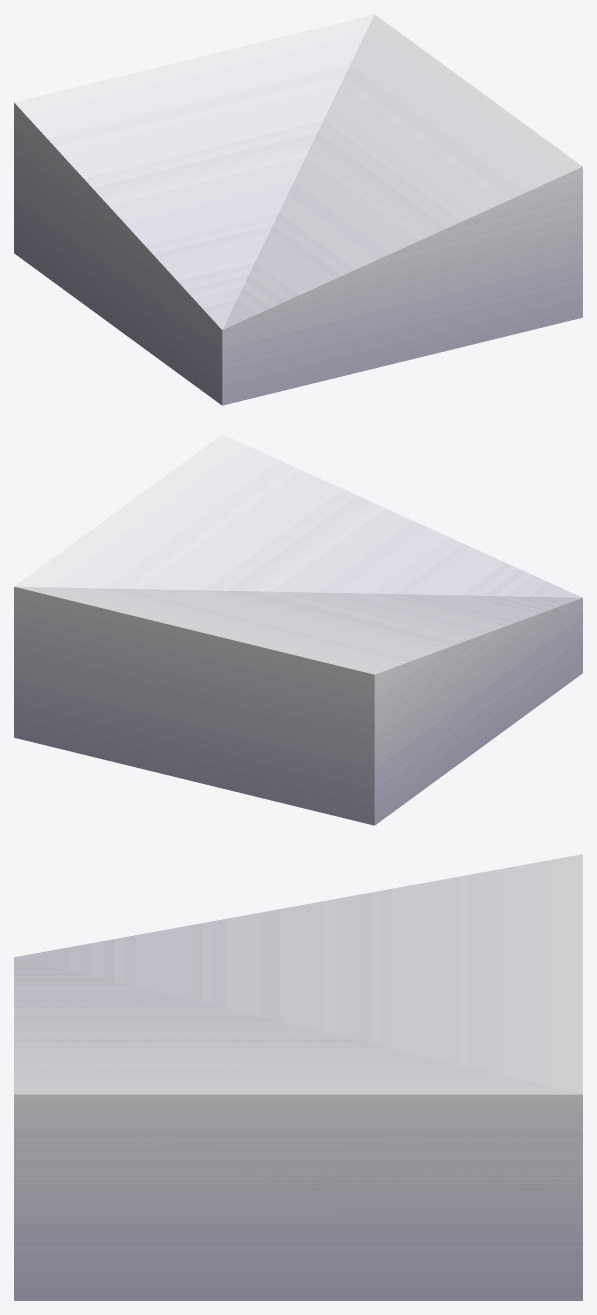
Rendered from snow-tile-corner-inner.glb.
The picture shows the model from 3 angles, top to bottom: view 1: azimuth 30°, elevation 25°; view 2: azimuth 150°, elevation 25°; view 3: azimuth 270°, elevation 25°; orthographic projection. The views are drawn at different scales.
Visible parts, largest first — view 1: snow-tile-corner-inner; view 2: snow-tile-corner-inner; view 3: snow-tile-corner-inner.
Boxes of the visible parts, <box> form: snow-tile-corner-inner: <box>14,14,582,405</box>; snow-tile-corner-inner: <box>14,434,582,825</box>; snow-tile-corner-inner: <box>14,854,582,1300</box>.
Size of the model in its own units: 1 by 0.3999 by 1.
Materials: 1 (1 with a texture image).
